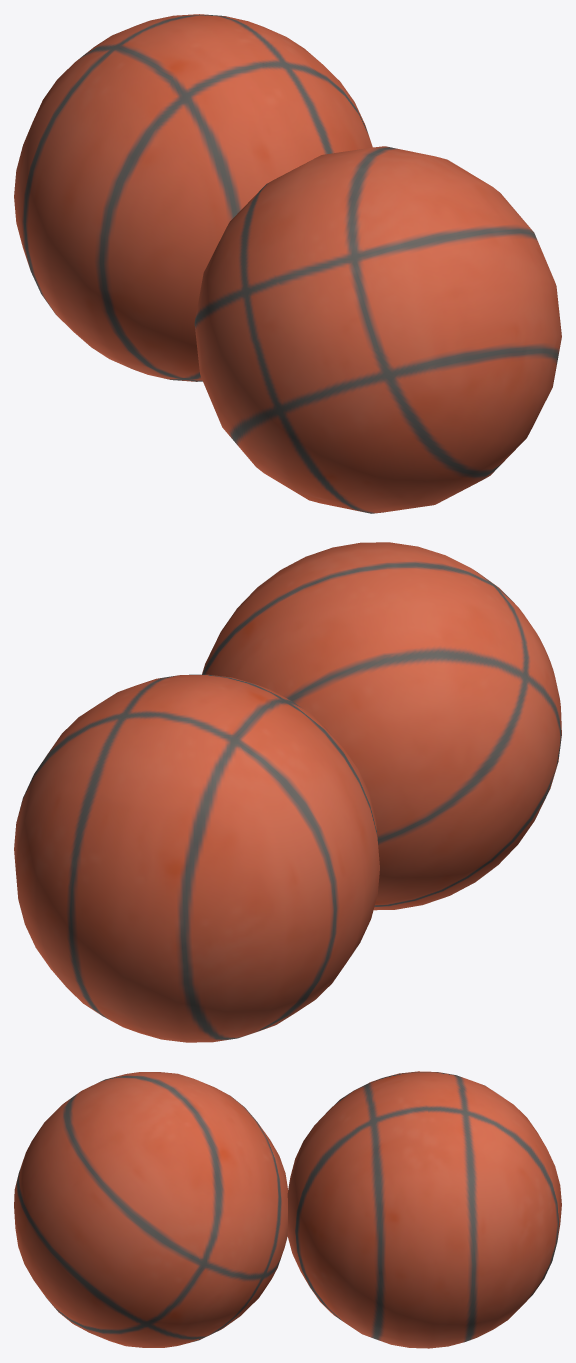
Rendered from SM_Basketballs_01b.fbx.
3 views of the same model, one above another, from view 1: azimuth 30°, elevation 25°; view 2: azimuth 150°, elevation 25°; view 3: azimuth 270°, elevation 25° (orthographic). The views are drawn at different scales.
Parts seen in each view (by area): view 1: SM_Basketballs_01b_LOD0; view 2: SM_Basketballs_01b_LOD0; view 3: SM_Basketballs_01b_LOD0.
Boxes of the visible parts, bbox=[...] form: SM_Basketballs_01b_LOD0: bbox=[14, 14, 561, 513]; SM_Basketballs_01b_LOD0: bbox=[14, 542, 561, 1042]; SM_Basketballs_01b_LOD0: bbox=[14, 1071, 561, 1348].
Bounding box in the file's own units: 23.76 × 47.1 × 23.85.
Materials: 1 (1 with a texture image).
